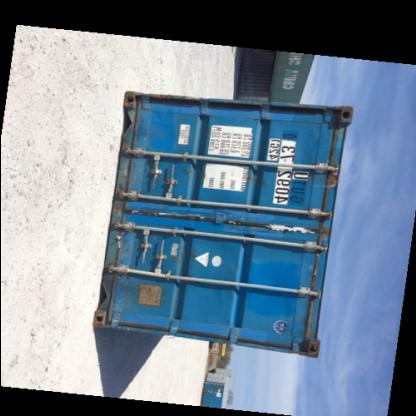Damage: (252, 214, 332, 245), (304, 290, 324, 362), (121, 154, 142, 204), (112, 226, 128, 272), (314, 160, 342, 186)
